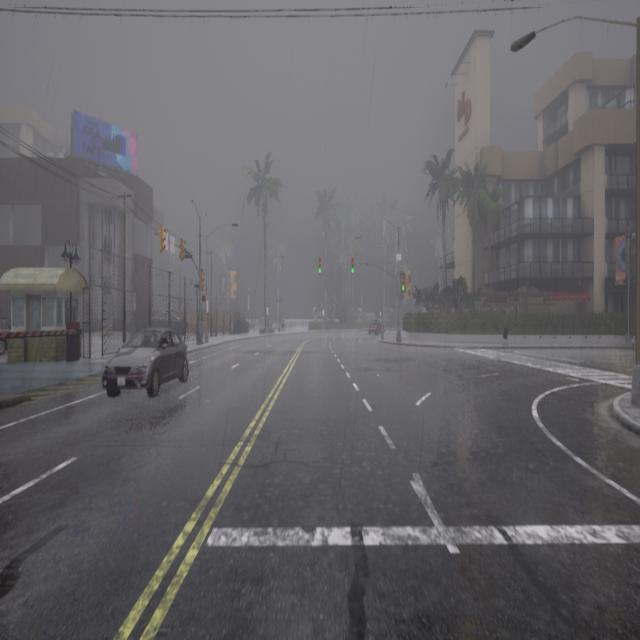6: (177, 237, 185, 248), (160, 226, 167, 237), (198, 270, 206, 277)
9: (159, 226, 167, 250), (316, 252, 324, 276), (398, 271, 406, 293), (178, 240, 186, 260), (348, 257, 356, 276), (200, 271, 207, 289)
bien_hieu_lenh: (348, 266, 355, 277), (316, 266, 324, 274), (400, 283, 405, 293)
